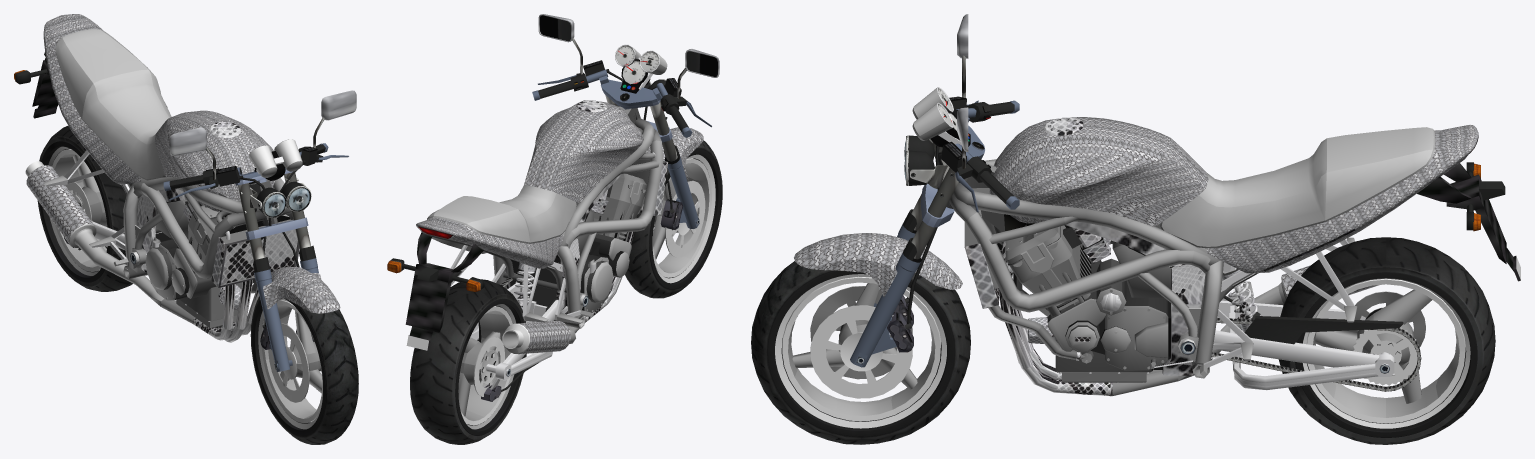
The model's file is SuperMotors_1_.fbx.
3 views of the same model, side by side, from view 1: azimuth 30°, elevation 25°; view 2: azimuth 150°, elevation 25°; view 3: azimuth 270°, elevation 25° (orthographic). The views are drawn at different scales.
Parts seen in each view (by area): view 1: SuperMotors_1_010, SuperMotors_1_003, SuperMotors_1_001, SuperMotors_1_011, SuperMotors_1_013, SuperMotors_1_009, SuperMotors_1_012, SuperMotors_1_016, SuperMotors_1_017, SuperMotors_1_002, SuperMotors_1_019, SuperMotors_1_020 (+3 smaller); view 2: SuperMotors_1_010, SuperMotors_1_001, SuperMotors_1_003, SuperMotors_1_011, SuperMotors_1_002, SuperMotors_1_017, SuperMotors_1_013, SuperMotors_1_015, SuperMotors_1_009, SuperMotors_1_012, SuperMotors_1_016, SuperMotors_1_020 (+1 smaller); view 3: SuperMotors_1_010, SuperMotors_1_001, SuperMotors_1_003, SuperMotors_1_011, SuperMotors_1_015, SuperMotors_1_013, SuperMotors_1_012, SuperMotors_1_002, SuperMotors_1_017, SuperMotors_1_016, SuperMotors_1_009, SuperMotors_1_014.
Boxes of the visible parts, x1,y1,x2,y2 form: SuperMotors_1_010: (43,14,299,342); SuperMotors_1_003: (250,296,358,444); SuperMotors_1_001: (37,126,133,291); SuperMotors_1_011: (122,151,293,278); SuperMotors_1_013: (253,232,340,371); SuperMotors_1_009: (25,161,194,323); SuperMotors_1_012: (121,139,302,273); SuperMotors_1_016: (235,169,310,260); SuperMotors_1_017: (163,143,348,225); SuperMotors_1_002: (15,51,58,118); SuperMotors_1_019: (170,127,215,179); SuperMotors_1_020: (313,90,356,148); SuperMotors_1_010: (416,100,668,323); SuperMotors_1_001: (410,279,526,444); SuperMotors_1_003: (625,140,722,298); SuperMotors_1_011: (483,59,663,328); SuperMotors_1_002: (389,232,483,350); SuperMotors_1_017: (532,60,711,137); SuperMotors_1_013: (646,127,703,229); SuperMotors_1_015: (470,262,563,401); SuperMotors_1_009: (502,316,585,354); SuperMotors_1_012: (505,44,667,314); SuperMotors_1_016: (602,89,677,161); SuperMotors_1_020: (538,14,582,74); SuperMotors_1_010: (964,117,1478,396); SuperMotors_1_001: (1278,237,1495,444); SuperMotors_1_003: (751,261,970,444); SuperMotors_1_011: (930,112,1258,378); SuperMotors_1_015: (1211,266,1421,391); SuperMotors_1_013: (794,209,962,367); SuperMotors_1_012: (912,87,1255,375); SuperMotors_1_002: (1417,162,1520,281); SuperMotors_1_017: (935,96,1019,212); SuperMotors_1_016: (911,141,984,259); SuperMotors_1_009: (1112,265,1379,395); SuperMotors_1_014: (906,135,953,197).
Size of what is drawn, in the model's own units: 57.14 by 86.85 by 162.
